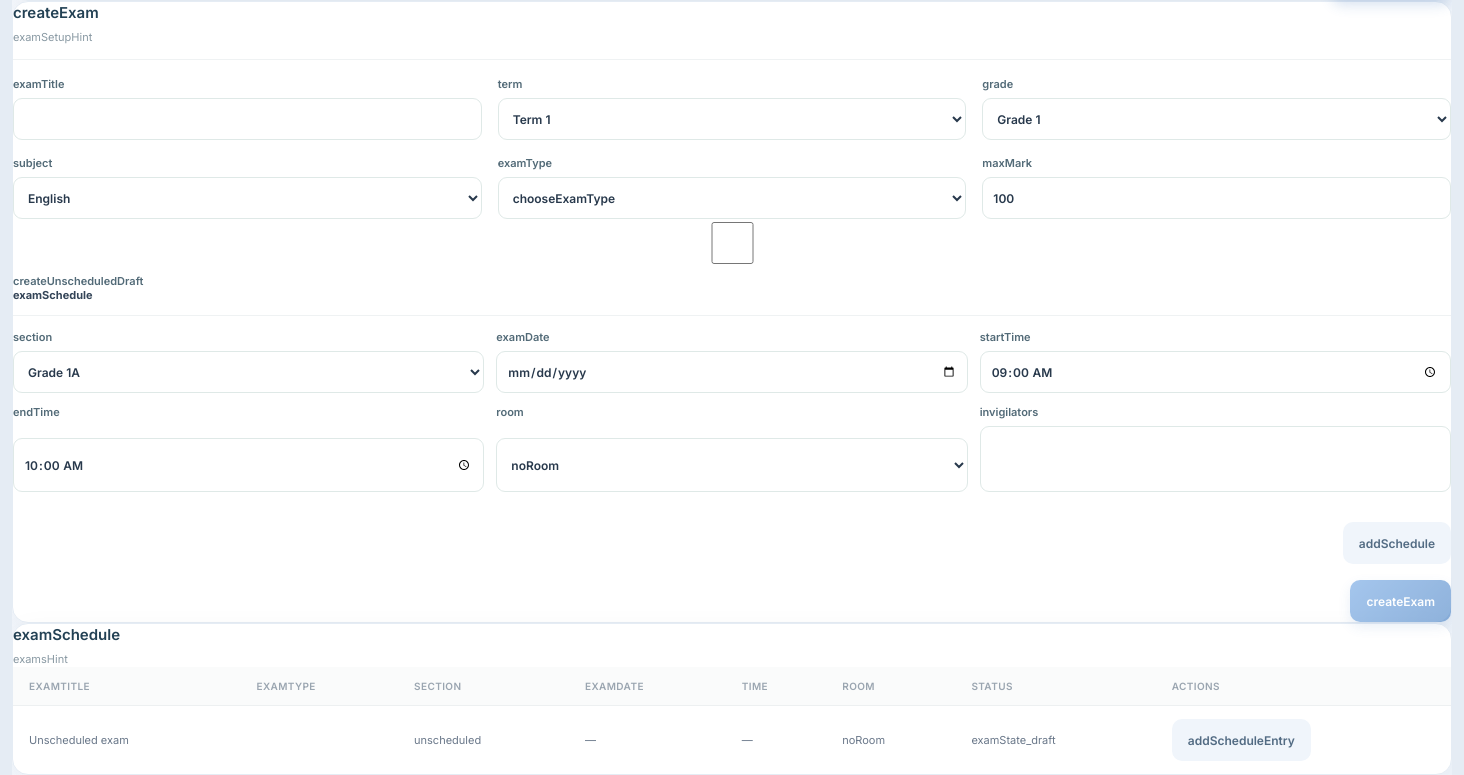
Test case: exams page › lets an administrator schedule an unscheduled exam draft
(page scrolled)
Expected: the text "unscheduled" is shown, [398,706,569,774]
Click the button "addScheduleEntry" at (1241, 740), box [1172,719,1311,761]
(page scrolled)
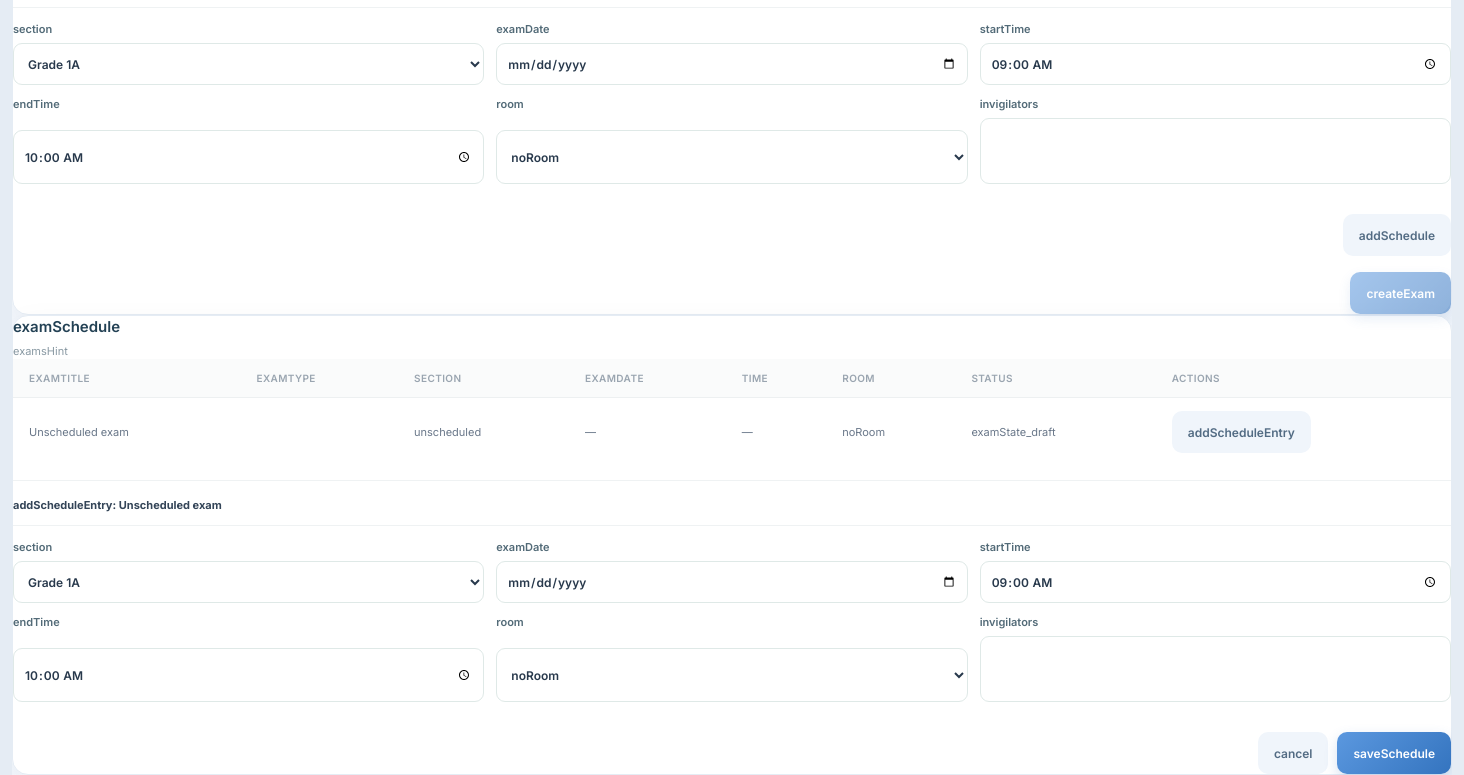
Expected: the heading "addScheduleEntry: Unscheduled exam" is shown, [13,498,222,512]
Expected: the number of dropdowns labelled "section" is 2, [13,43,484,85]; [13,561,484,603]
